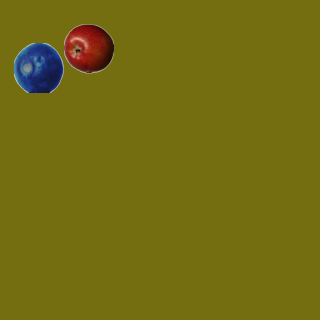Apple Braeburn: (63, 23, 113, 73)
Huckleberry: (13, 42, 63, 92)
